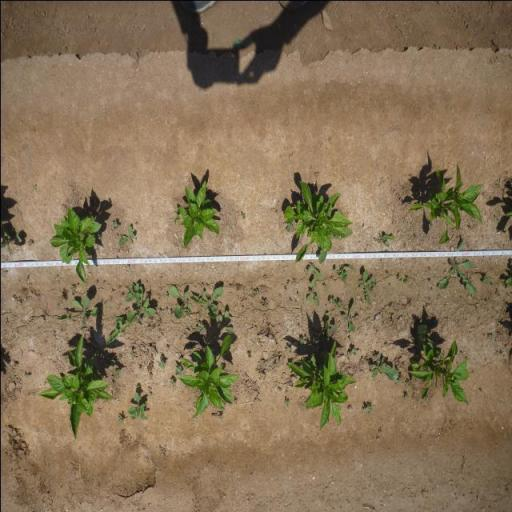plant: (406, 316, 468, 410), (292, 356, 351, 429), (406, 168, 478, 227), (186, 343, 238, 416), (62, 350, 107, 432), (285, 179, 340, 246), (54, 210, 100, 274), (172, 178, 216, 232)
weed: (130, 280, 155, 319), (196, 294, 233, 320), (444, 266, 476, 294), (371, 356, 397, 382), (126, 392, 148, 420), (72, 302, 98, 320), (112, 318, 130, 343), (174, 288, 190, 316), (306, 274, 320, 304), (342, 304, 358, 330), (324, 292, 342, 314), (124, 222, 136, 245), (379, 231, 394, 248), (361, 277, 374, 295), (336, 266, 348, 280), (362, 402, 373, 416), (156, 356, 166, 370), (260, 295, 269, 309), (109, 221, 121, 229)
